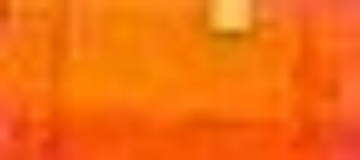Hotspot: (206, 1, 255, 30)
